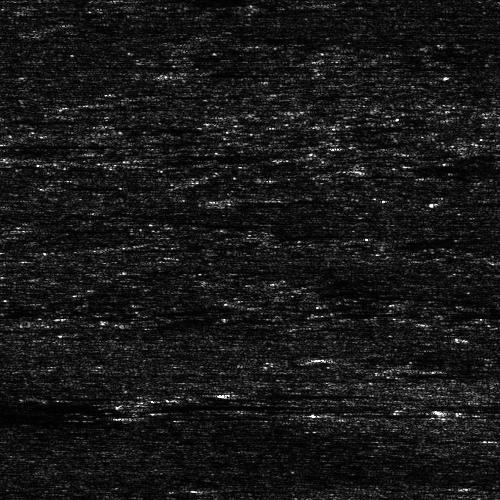object: (93, 395, 166, 408), (147, 68, 210, 77), (309, 409, 362, 416), (206, 391, 259, 396), (0, 138, 29, 147), (137, 498, 220, 500), (120, 414, 161, 417)
shadow: (130, 395, 251, 408), (0, 138, 126, 147), (233, 391, 357, 396), (179, 68, 235, 77), (336, 409, 400, 416), (179, 498, 361, 500), (141, 414, 262, 417)
